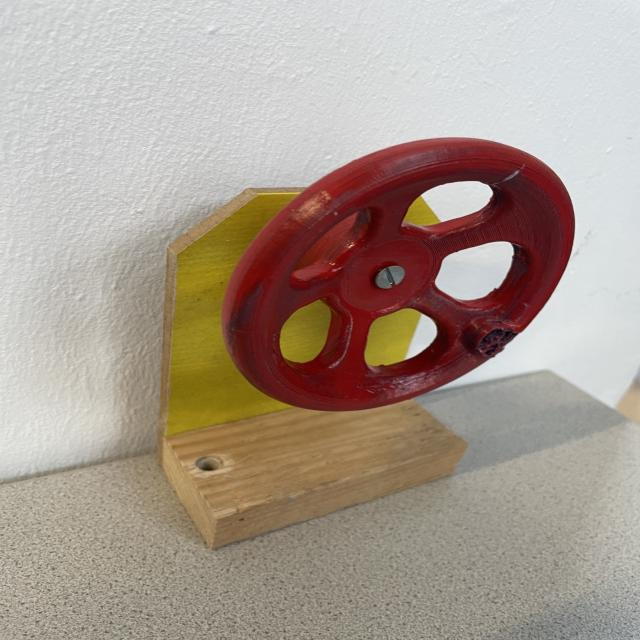Wheel Handle Valve Threaded: (219, 135, 577, 412)
